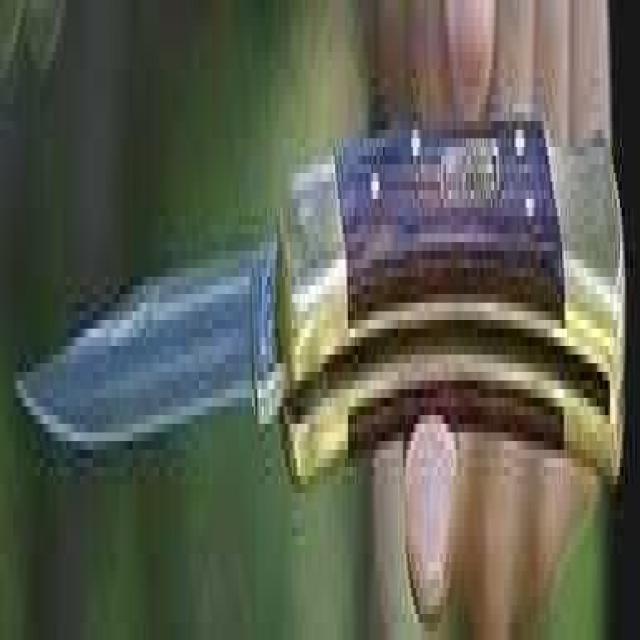knife: (12, 94, 629, 506)
